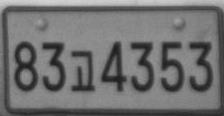3: (188, 40, 213, 92), (41, 41, 66, 92), (130, 41, 155, 92)
4: (100, 40, 128, 91)
5: (160, 40, 185, 92)
8: (13, 41, 39, 91)
고: (70, 49, 96, 91)
